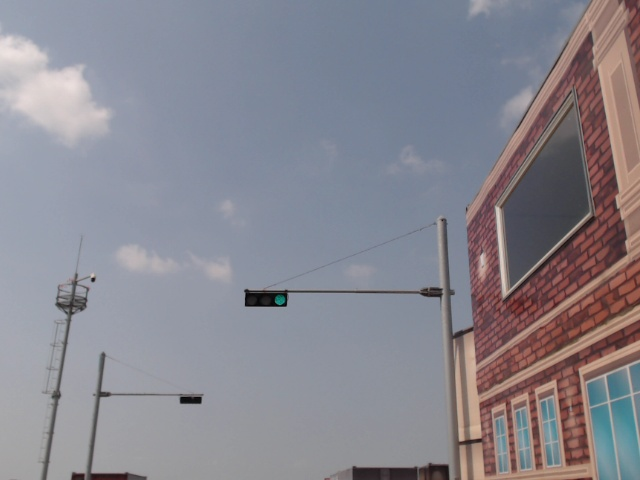green_3: (245, 292, 288, 307)
